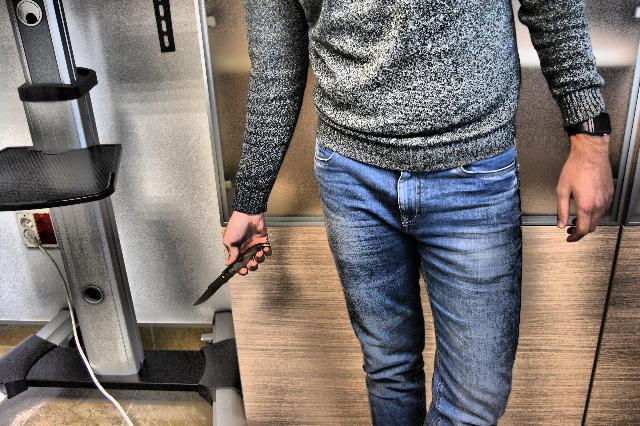knife: (190, 239, 276, 308)
